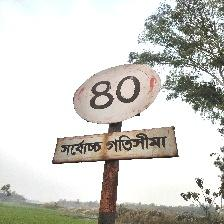Speed-limit: (54, 62, 175, 164)
